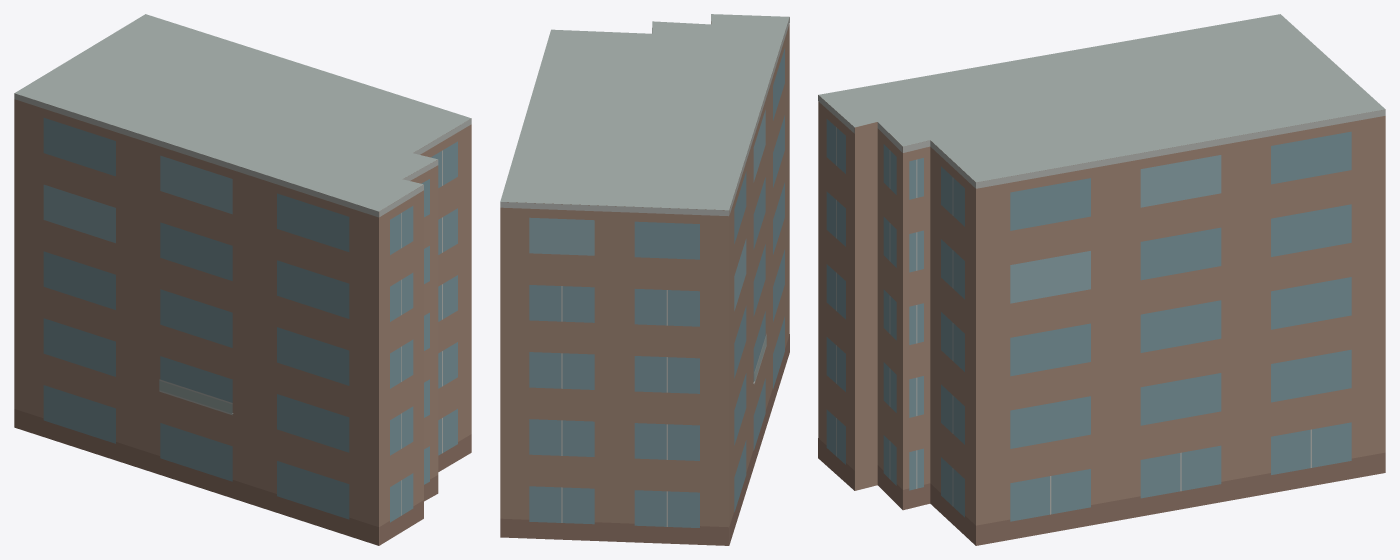
Rendered from survey-upis-33034483.glb.
The picture shows the model from 3 angles, left to right: view 1: azimuth 30°, elevation 25°; view 2: azimuth 150°, elevation 25°; view 3: azimuth 270°, elevation 25°; orthographic projection. The views are drawn at different scales.
Visible parts, largest first — view 1: survey-upis-33034483.tmp; view 2: survey-upis-33034483.tmp; view 3: survey-upis-33034483.tmp.
Boxes of the visible parts, x1,y1,x2,y2 form: survey-upis-33034483.tmp: (14,14,471,545); survey-upis-33034483.tmp: (500,14,789,545); survey-upis-33034483.tmp: (818,14,1385,545).
Bounding box in the file's own units: 13.82 × 13.9 × 19.68.
